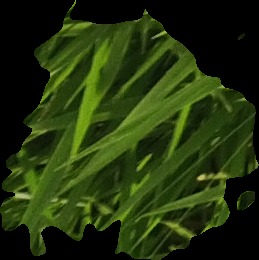grass: (1, 1, 258, 259)
